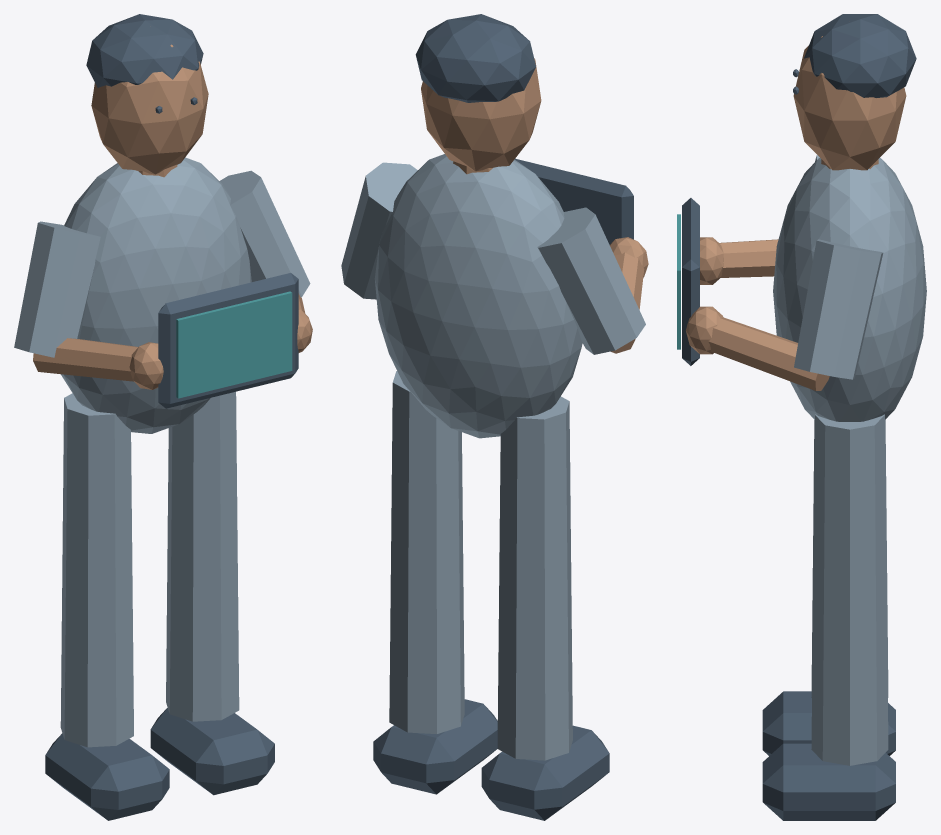
The picture shows the model from 3 angles, left to right: view 1: azimuth 30°, elevation 25°; view 2: azimuth 150°, elevation 25°; view 3: azimuth 270°, elevation 25°; orthographic projection. The views are drawn at different scales.
Parts seen in each view (by area): view 1: SI-007 Tablet-holding station crewmember batched; view 2: SI-007 Tablet-holding station crewmember batched; view 3: SI-007 Tablet-holding station crewmember batched.
Part boxes in pixels (box(x1,y1,x2,y2)): SI-007 Tablet-holding station crewmember batched: box(14, 14, 312, 820); SI-007 Tablet-holding station crewmember batched: box(341, 14, 648, 820); SI-007 Tablet-holding station crewmember batched: box(677, 14, 926, 820).
Bounding box in the file's own units: 0.6556 × 1.64 × 0.487.
